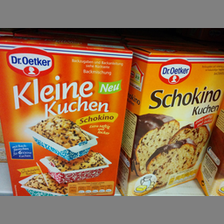cake: (2, 42, 133, 195), (125, 42, 219, 198)
